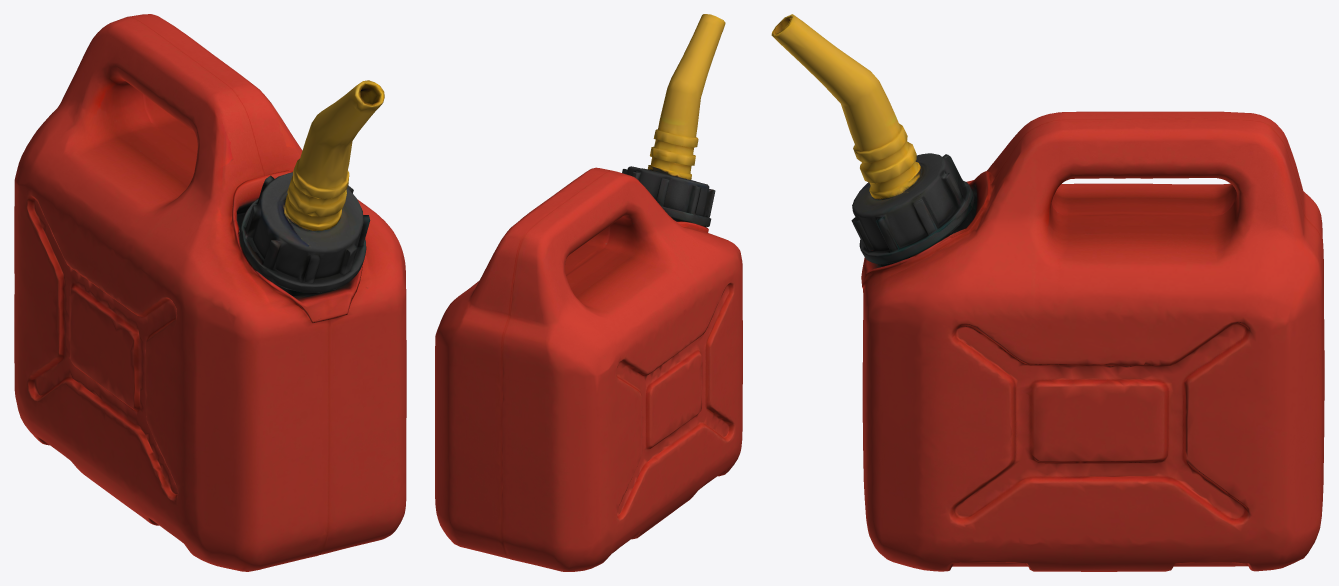
File: gasoline+can+3d+model.glb
The picture shows the model from 3 angles, left to right: view 1: azimuth 30°, elevation 25°; view 2: azimuth 150°, elevation 25°; view 3: azimuth 270°, elevation 25°; orthographic projection. The views are drawn at different scales.
Parts seen in each view (by area): view 1: tripo_node_9330aefa-a820-4b99-b295-d3e1f78ce24a; view 2: tripo_node_9330aefa-a820-4b99-b295-d3e1f78ce24a; view 3: tripo_node_9330aefa-a820-4b99-b295-d3e1f78ce24a.
Boxes of the visible parts, left/top/right/bottom form: tripo_node_9330aefa-a820-4b99-b295-d3e1f78ce24a: left=14, top=14, right=406, bottom=571; tripo_node_9330aefa-a820-4b99-b295-d3e1f78ce24a: left=435, top=14, right=742, bottom=571; tripo_node_9330aefa-a820-4b99-b295-d3e1f78ce24a: left=771, top=14, right=1324, bottom=571.
Size of the model in its own units: 0.4425 by 0.9819 by 0.9553.
1 material, 1 textured.
